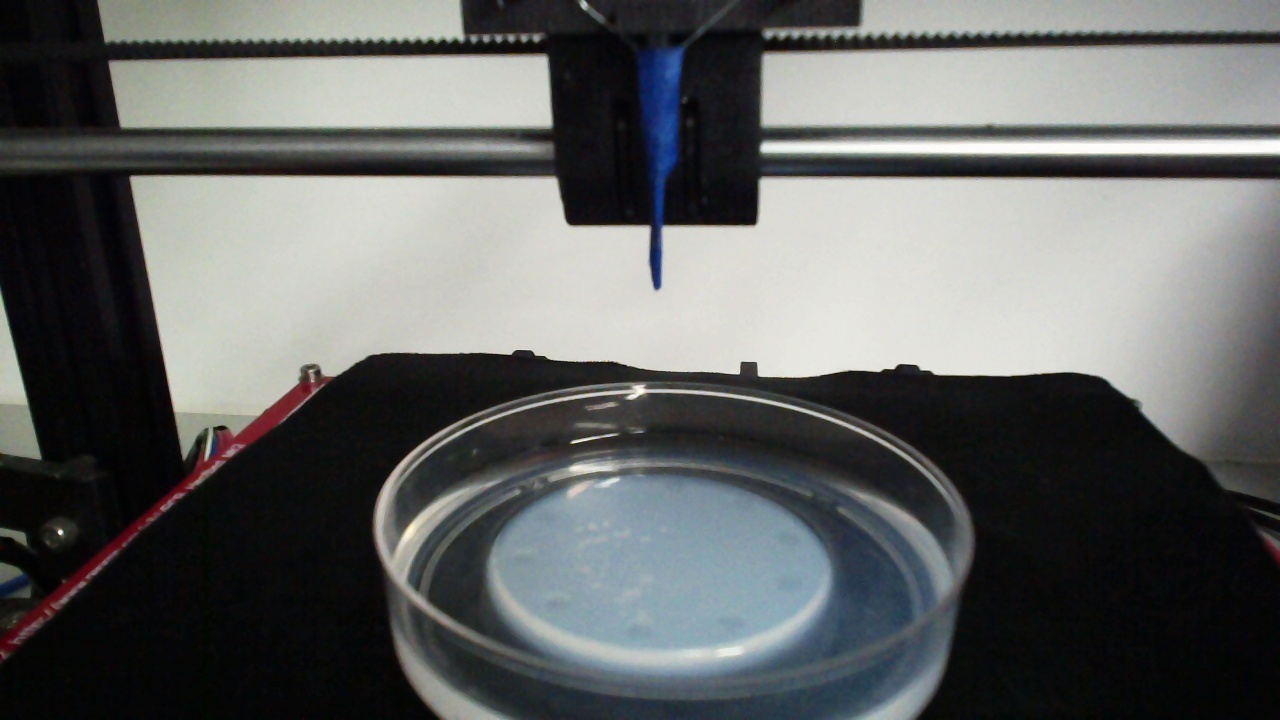groove: (622, 620, 658, 641), (774, 574, 806, 596), (530, 507, 562, 529), (714, 613, 748, 633), (541, 595, 573, 615), (772, 531, 803, 551), (508, 552, 540, 571), (731, 490, 758, 512), (661, 476, 689, 495)
needle: (647, 49, 684, 286)
